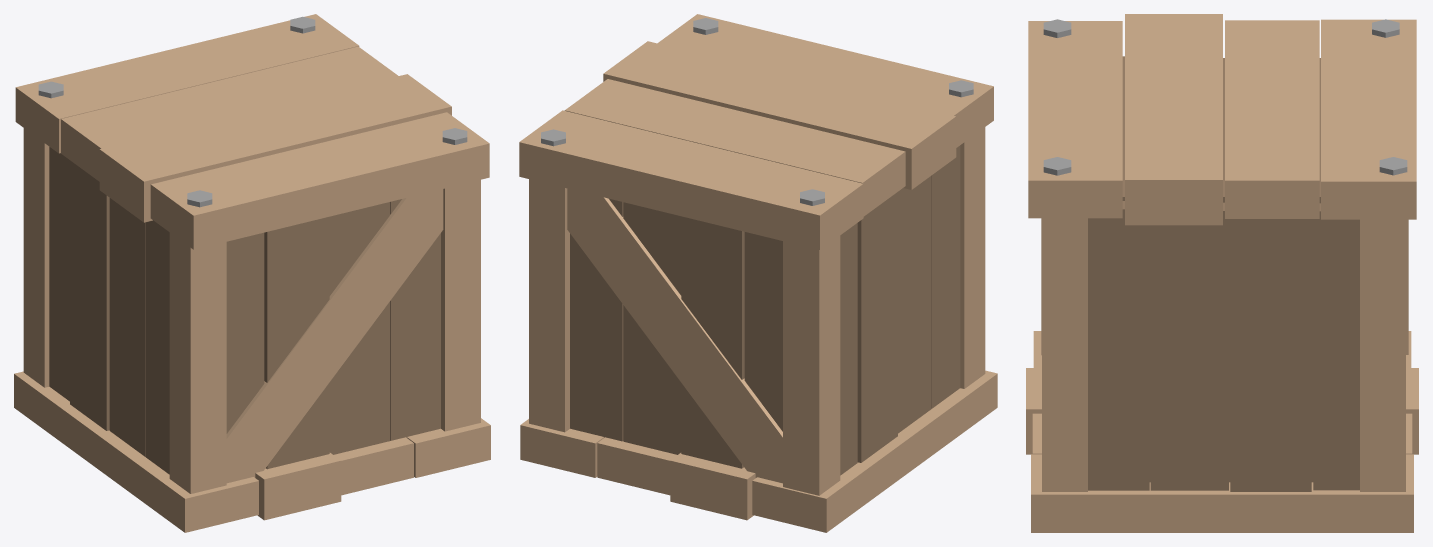
File: crate.fbx
3 renders of one model, left to right at view 1: azimuth 30°, elevation 25°; view 2: azimuth 150°, elevation 25°; view 3: azimuth 270°, elevation 25°, orthographic. The views are drawn at different scales.
Parts seen in each view (by area): view 1: pCube12; view 2: pCube12; view 3: pCube12.
Boxes of the visible parts, left/top/right/bottom form: pCube12: left=14, top=14, right=490, bottom=532; pCube12: left=519, top=14, right=997, bottom=532; pCube12: left=1026, top=14, right=1418, bottom=532.
Bounding box in the file's own units: 2.08 × 2.1 × 2.08.
